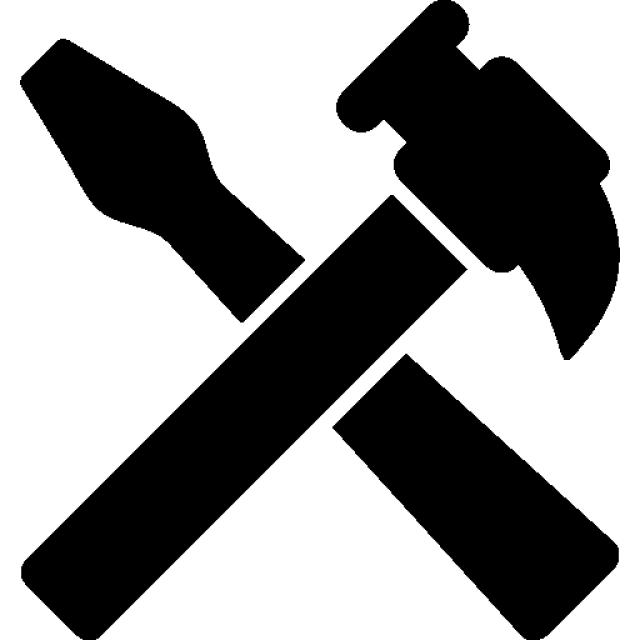Screwdriver: (20, 37, 623, 640)
